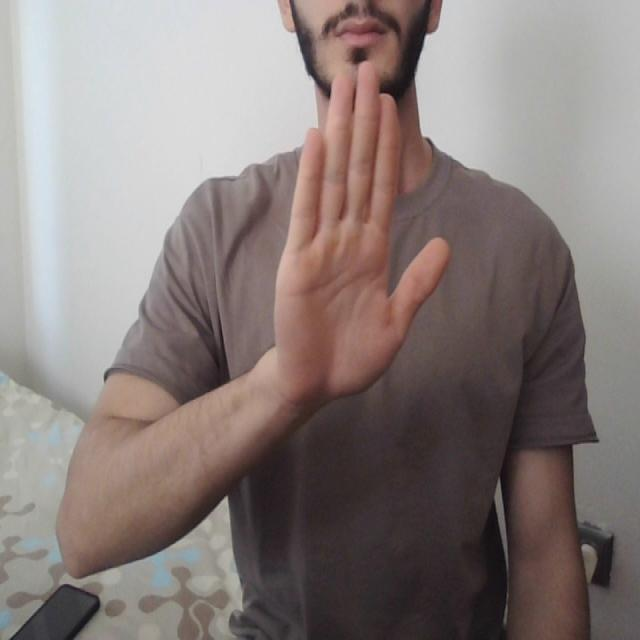Dur: (258, 52, 464, 408)
